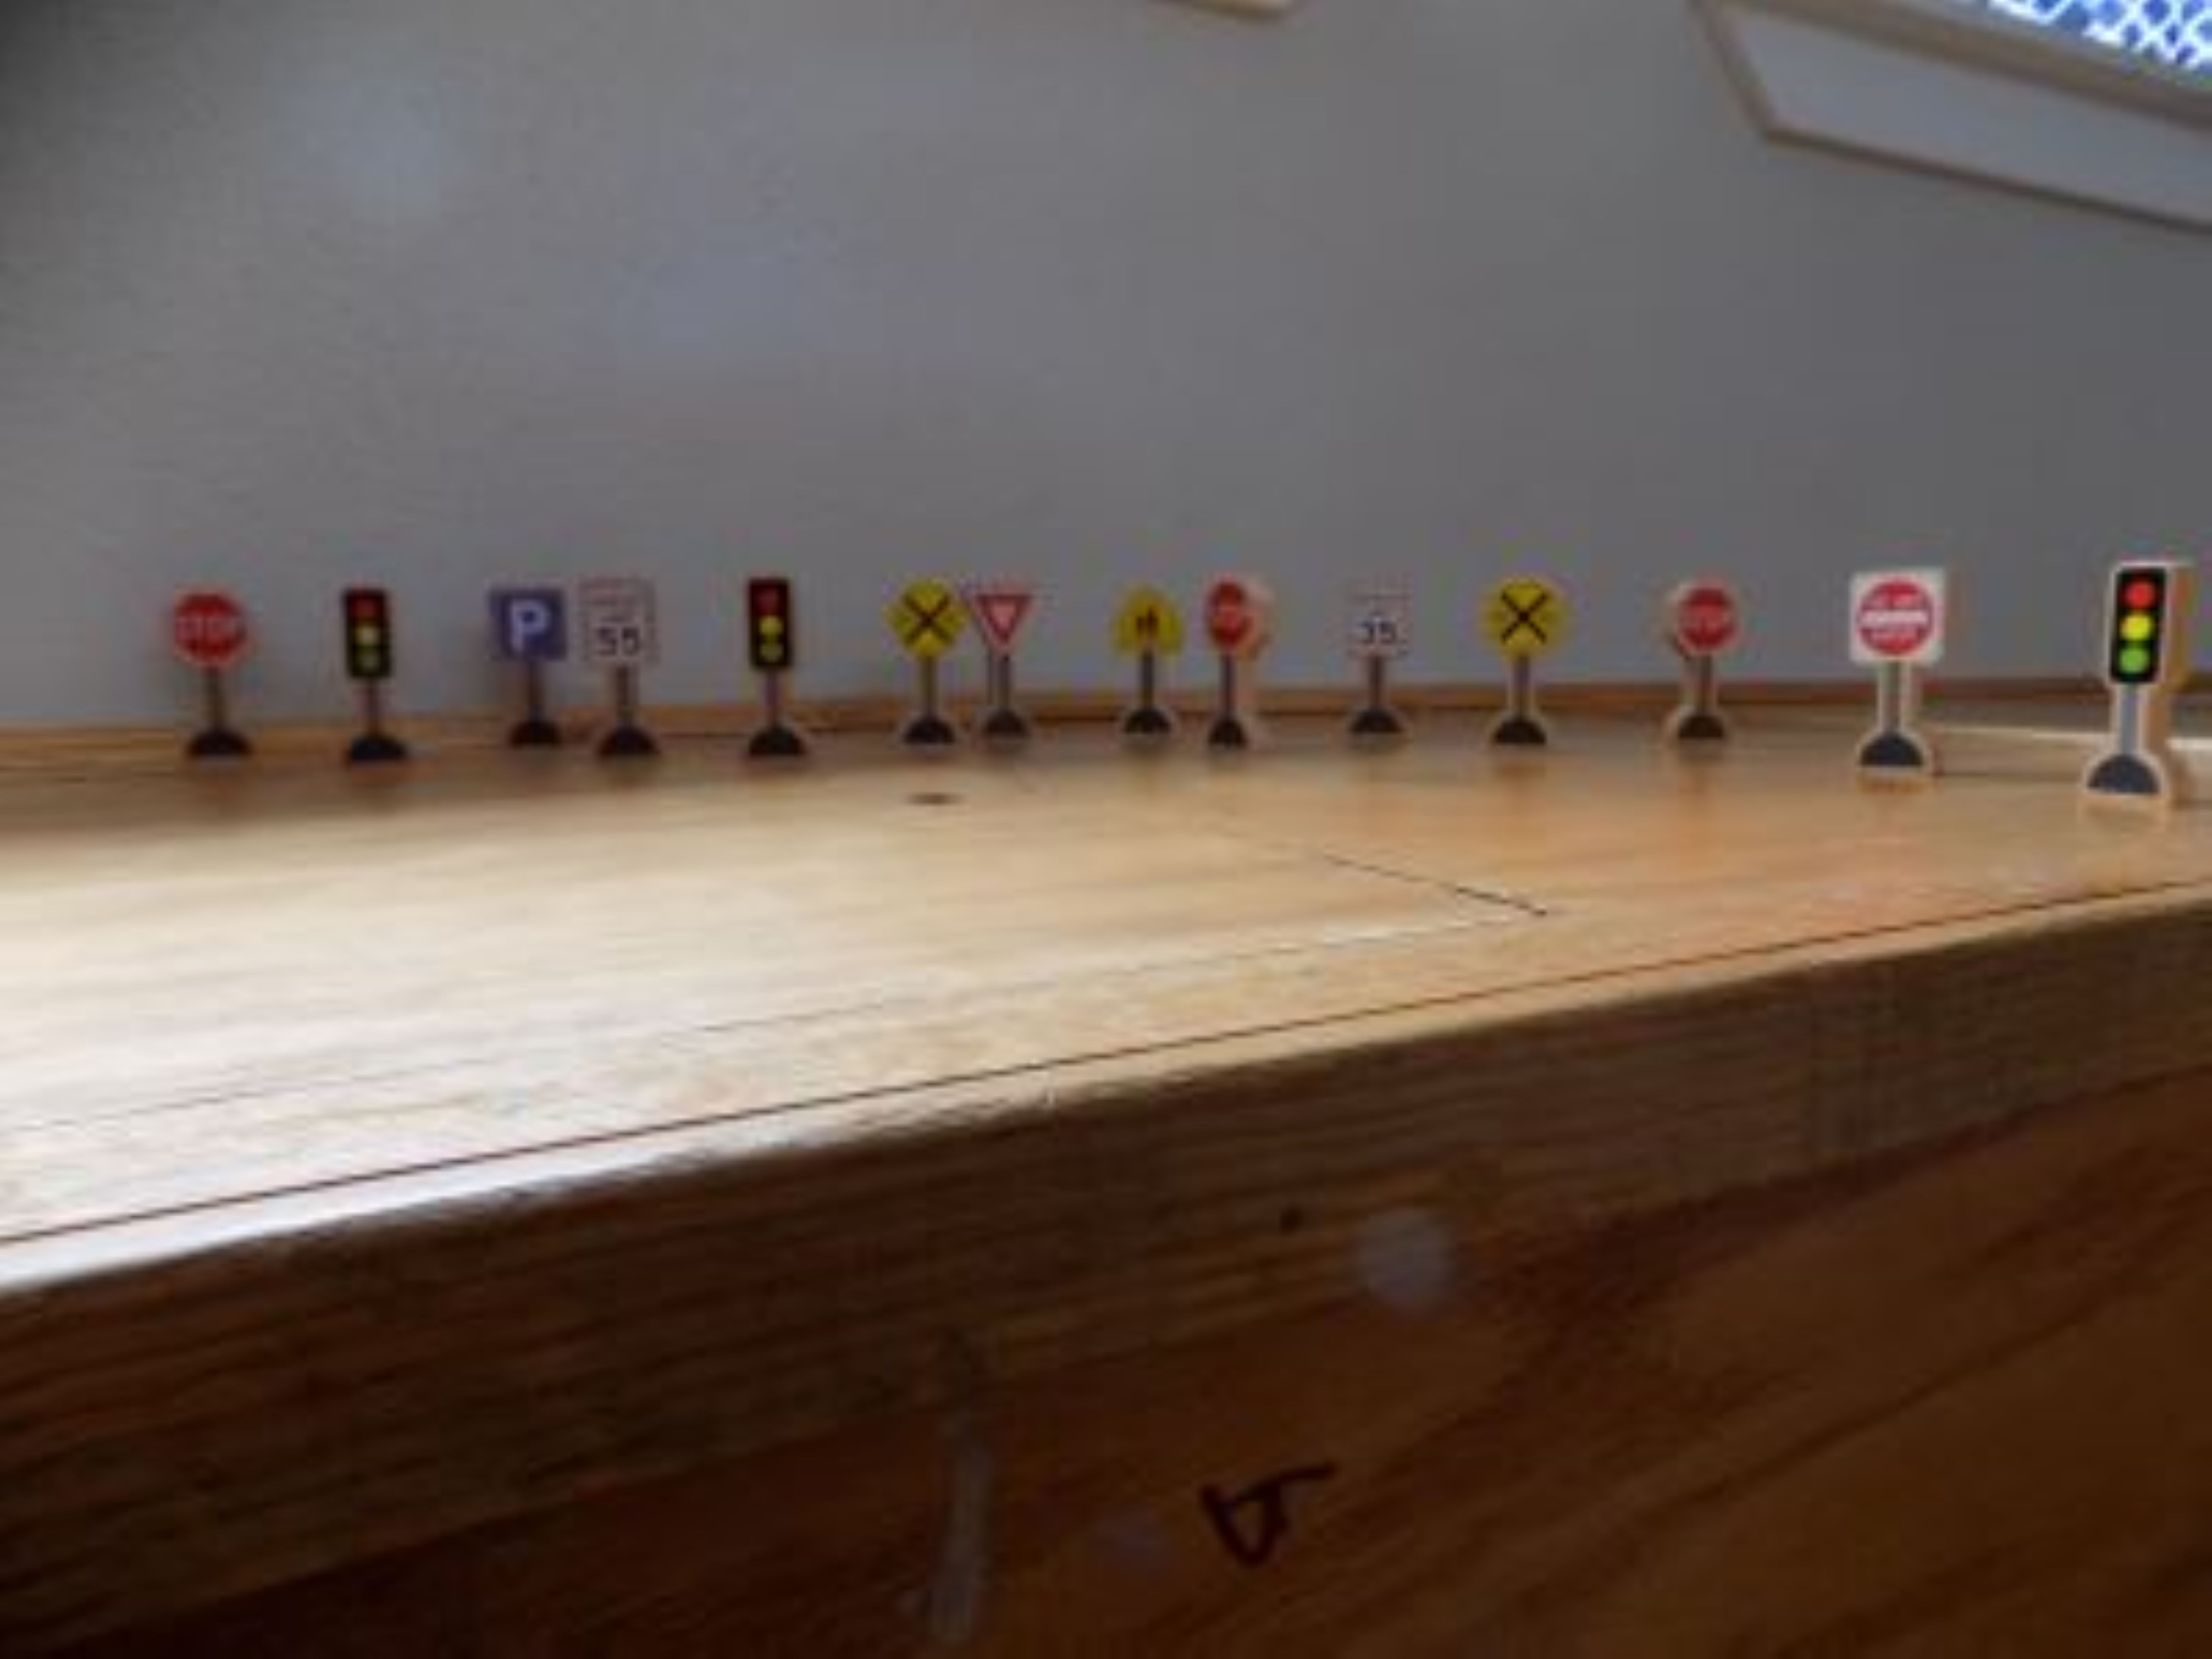Do Not Enter: (1847, 566, 1956, 668)
Parking Sign: (489, 581, 572, 668)
Pedestrians: (1105, 584, 1191, 661)
Rail Road Sign: (1483, 571, 1577, 656), (890, 577, 967, 663)
Red Traffic Light: (2097, 557, 2201, 690), (741, 567, 802, 685), (346, 588, 398, 684)
Speed Limit 35: (1348, 573, 1413, 665)
Speed Limit 55: (584, 582, 656, 666)
Stop Sign: (171, 580, 260, 668), (1204, 574, 1280, 663), (1671, 577, 1747, 665)
Yield Sign: (965, 584, 1039, 663)
